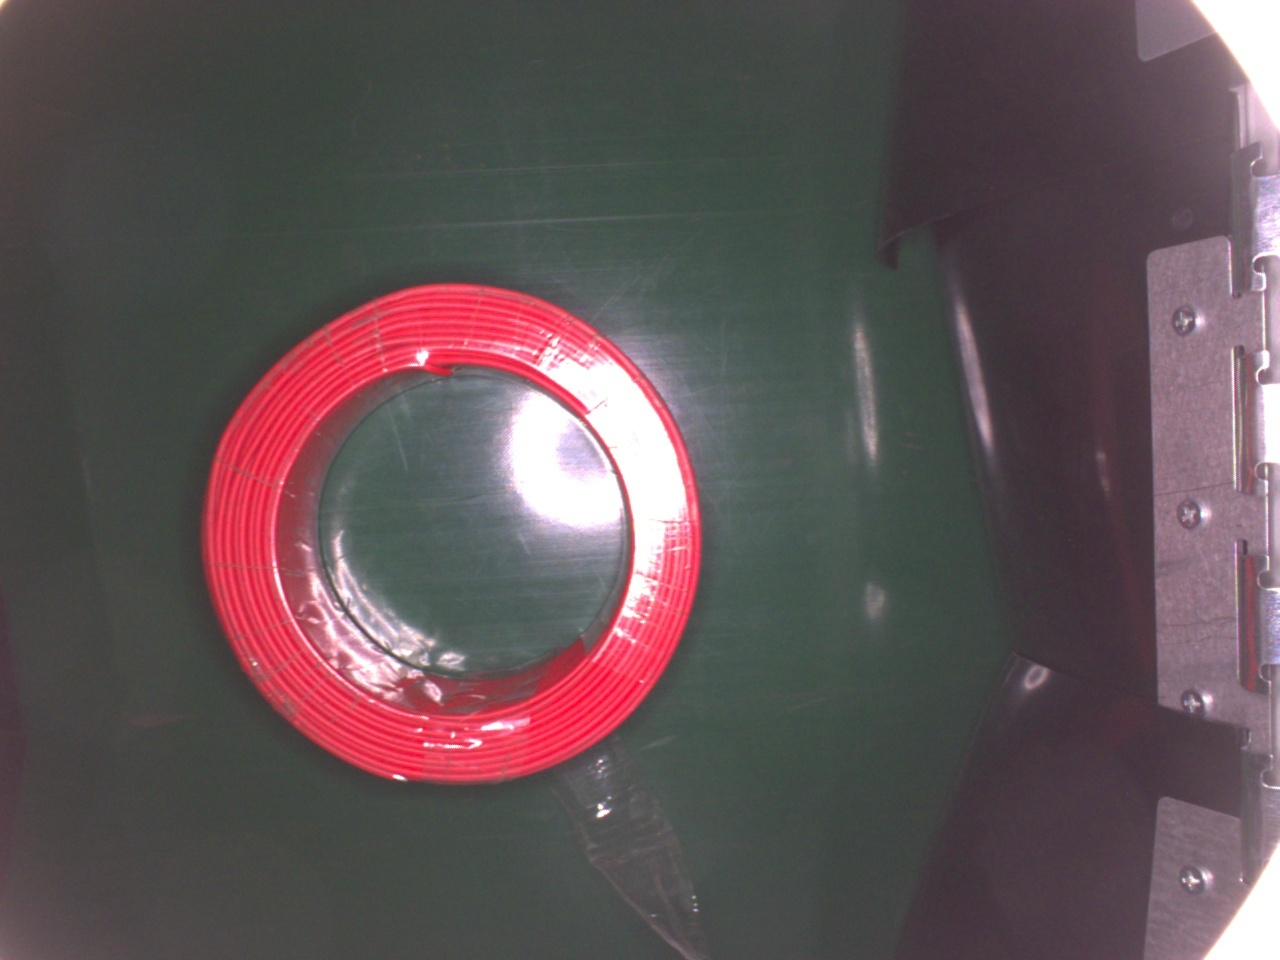red: (199, 277, 703, 790)
